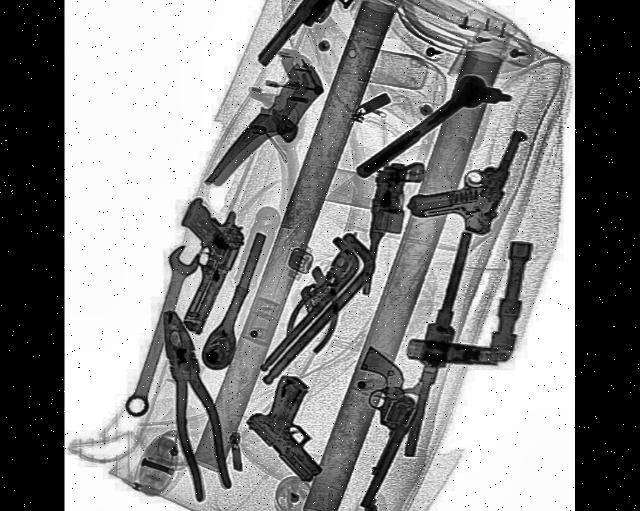Gun: (407, 84, 530, 266), (313, 341, 429, 511), (151, 185, 252, 342), (244, 356, 348, 494), (360, 150, 428, 308), (257, 0, 359, 96)
Pliers: (152, 300, 237, 506), (281, 214, 376, 369)
Wrench: (117, 240, 204, 426)
